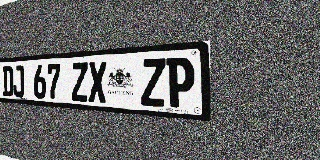6: (33, 64, 46, 99)
7: (47, 64, 61, 100)
D: (3, 66, 13, 97)
J: (13, 65, 24, 98)
P: (167, 57, 195, 109)
X: (88, 61, 107, 103)
Z: (141, 58, 166, 107), (71, 62, 88, 102)
